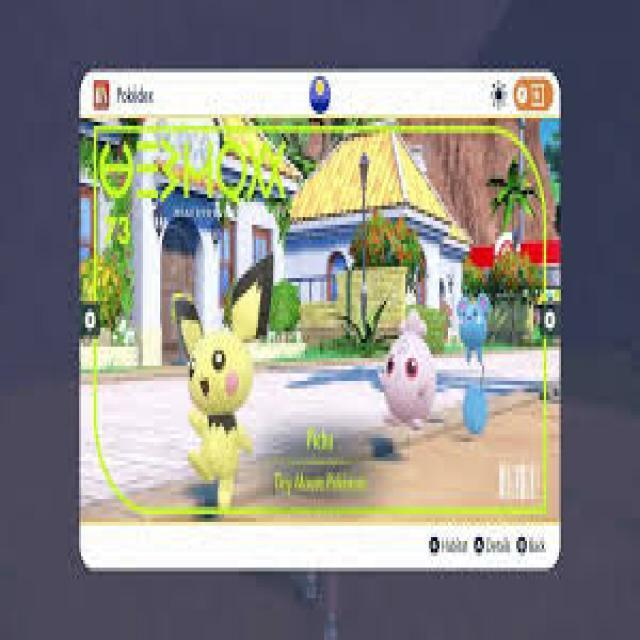pichu: (158, 270, 280, 518)
